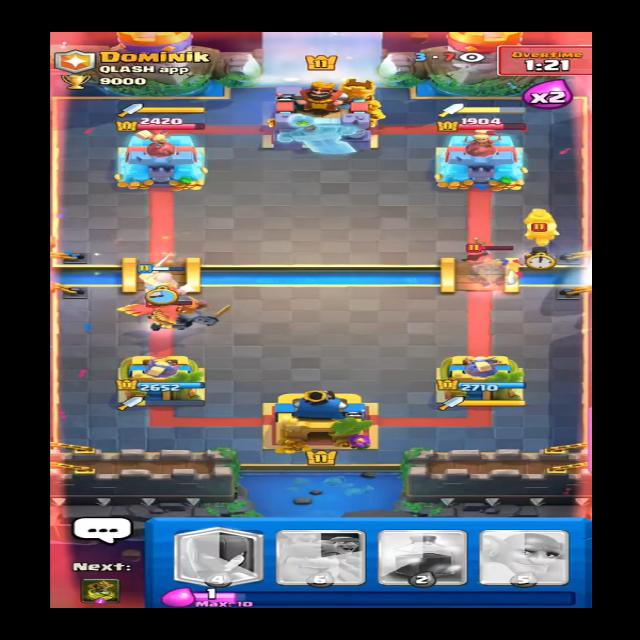pekka: (147, 293, 230, 339)
ram-rider: (510, 206, 569, 250)
royal-ghost: (457, 244, 538, 294)
